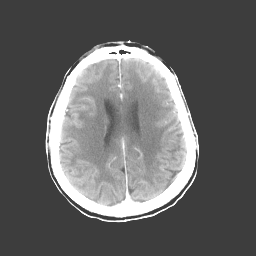ischemic: (94, 118, 99, 123)
